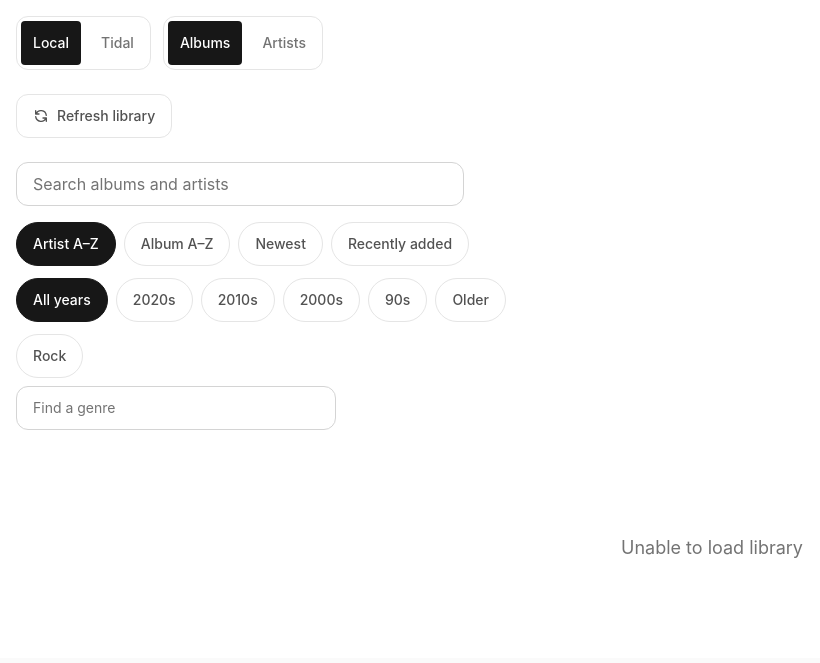
Test: LibraryView — escaping the error state › after a rejected filter combination (400) › still explains a sort the decade click had to give way to
Click the button with test id "sort-chip-recently-added" at (400, 244), box [331, 222, 469, 266]
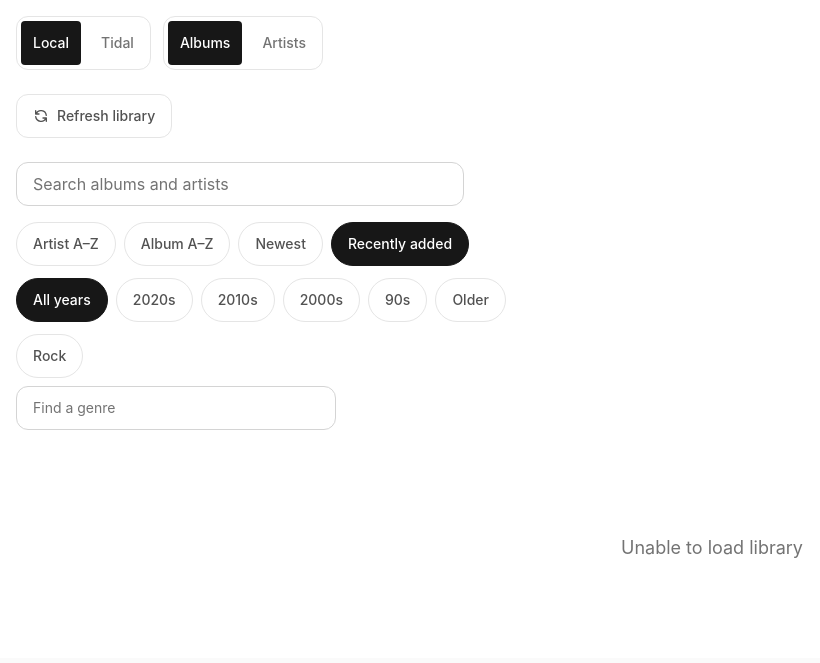
Click the button with test id "decade-chip-2000s" at (321, 300), box [283, 278, 360, 322]
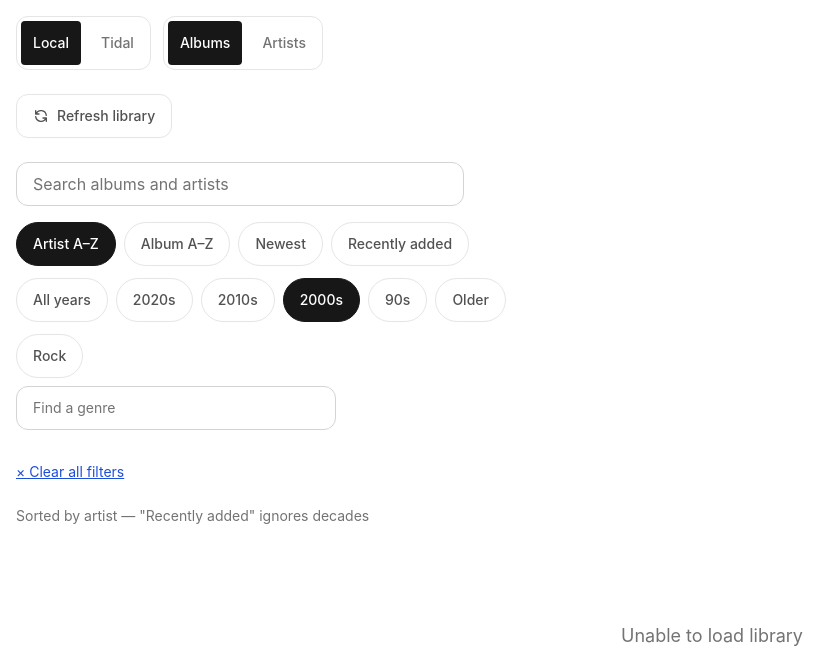
Expected: the message with test id "filter-adjusted-message" reads "Sorted by artist — \"Recently added\" ignores decades", [16, 507, 369, 524]
